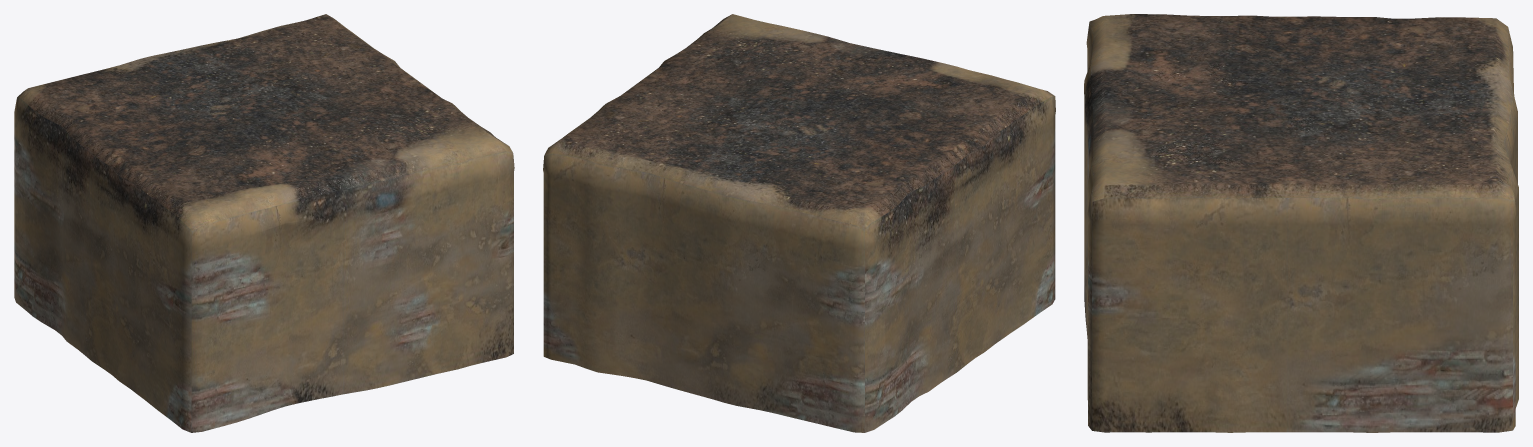
File: Room_G_Bearing_Forge.gltf
The picture shows the model from 3 angles, left to right: view 1: azimuth 30°, elevation 25°; view 2: azimuth 150°, elevation 25°; view 3: azimuth 270°, elevation 25°; orthographic projection. The views are drawn at different scales.
Visible parts, largest first — view 1: Room_G_Bearing_Forge_Plane.032; view 2: Room_G_Bearing_Forge_Plane.032; view 3: Room_G_Bearing_Forge_Plane.032.
Part boxes in pixels (box(x1,y1,x2,y2)): Room_G_Bearing_Forge_Plane.032: box(14, 14, 514, 432); Room_G_Bearing_Forge_Plane.032: box(543, 14, 1055, 432); Room_G_Bearing_Forge_Plane.032: box(1084, 14, 1518, 432).
Size of the model in its own units: 0.8 by 0.4999 by 0.8.
Materials: 1 (1 with a texture image).
